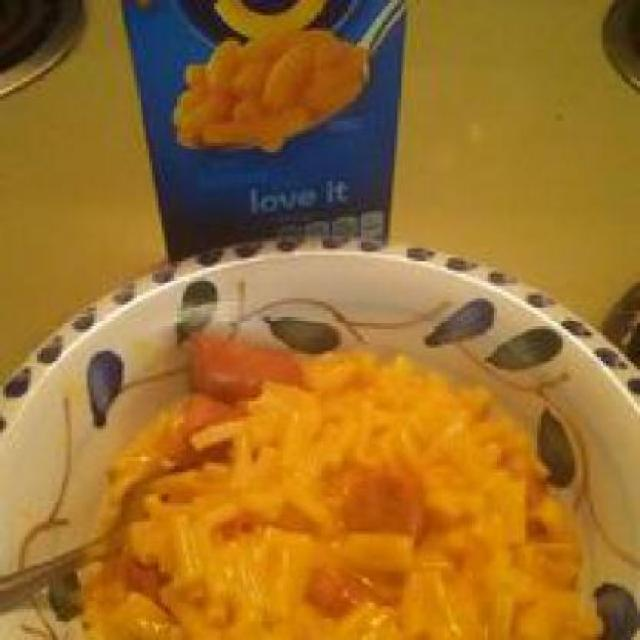hot dog: (292, 472, 432, 610), (165, 327, 308, 438)
macaroni and cheese: (99, 345, 587, 637), (161, 15, 382, 150)
